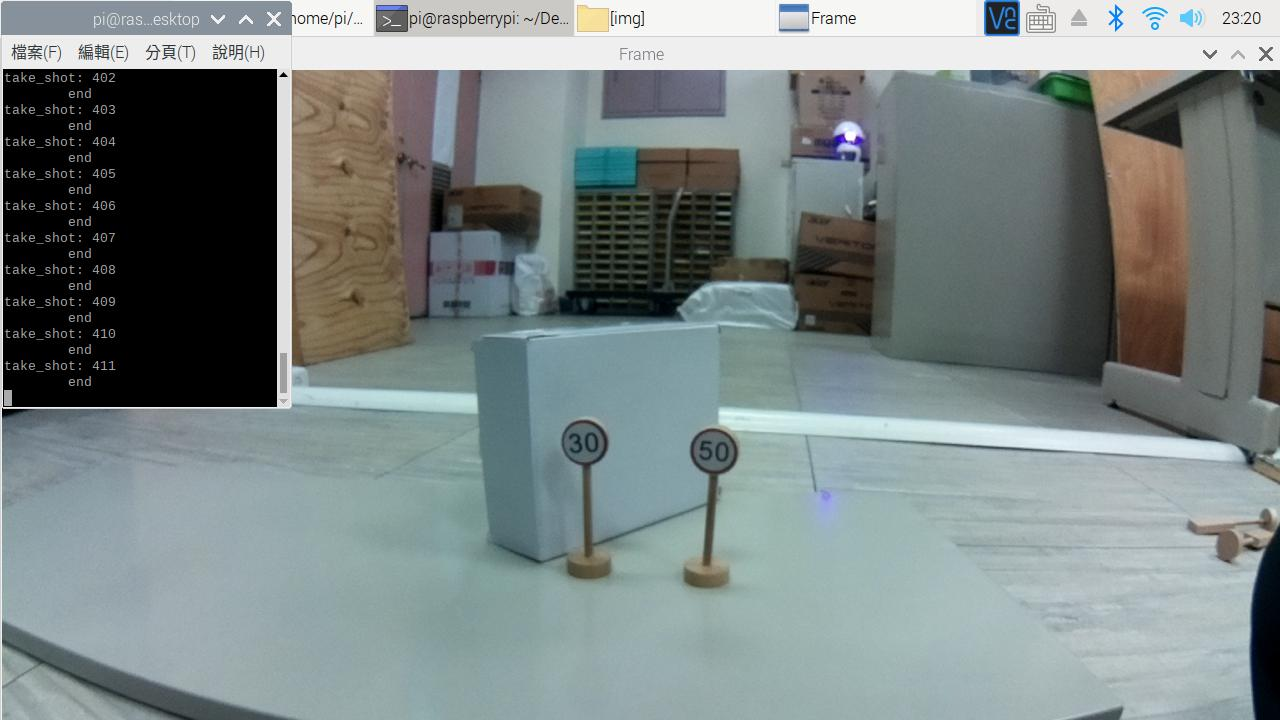Speed30: (547, 408, 617, 474)
Speed50: (677, 412, 753, 498)
